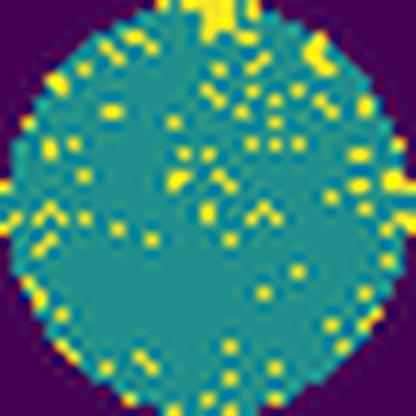Edge-Loc: (174, 0, 260, 42), (298, 17, 343, 82)
